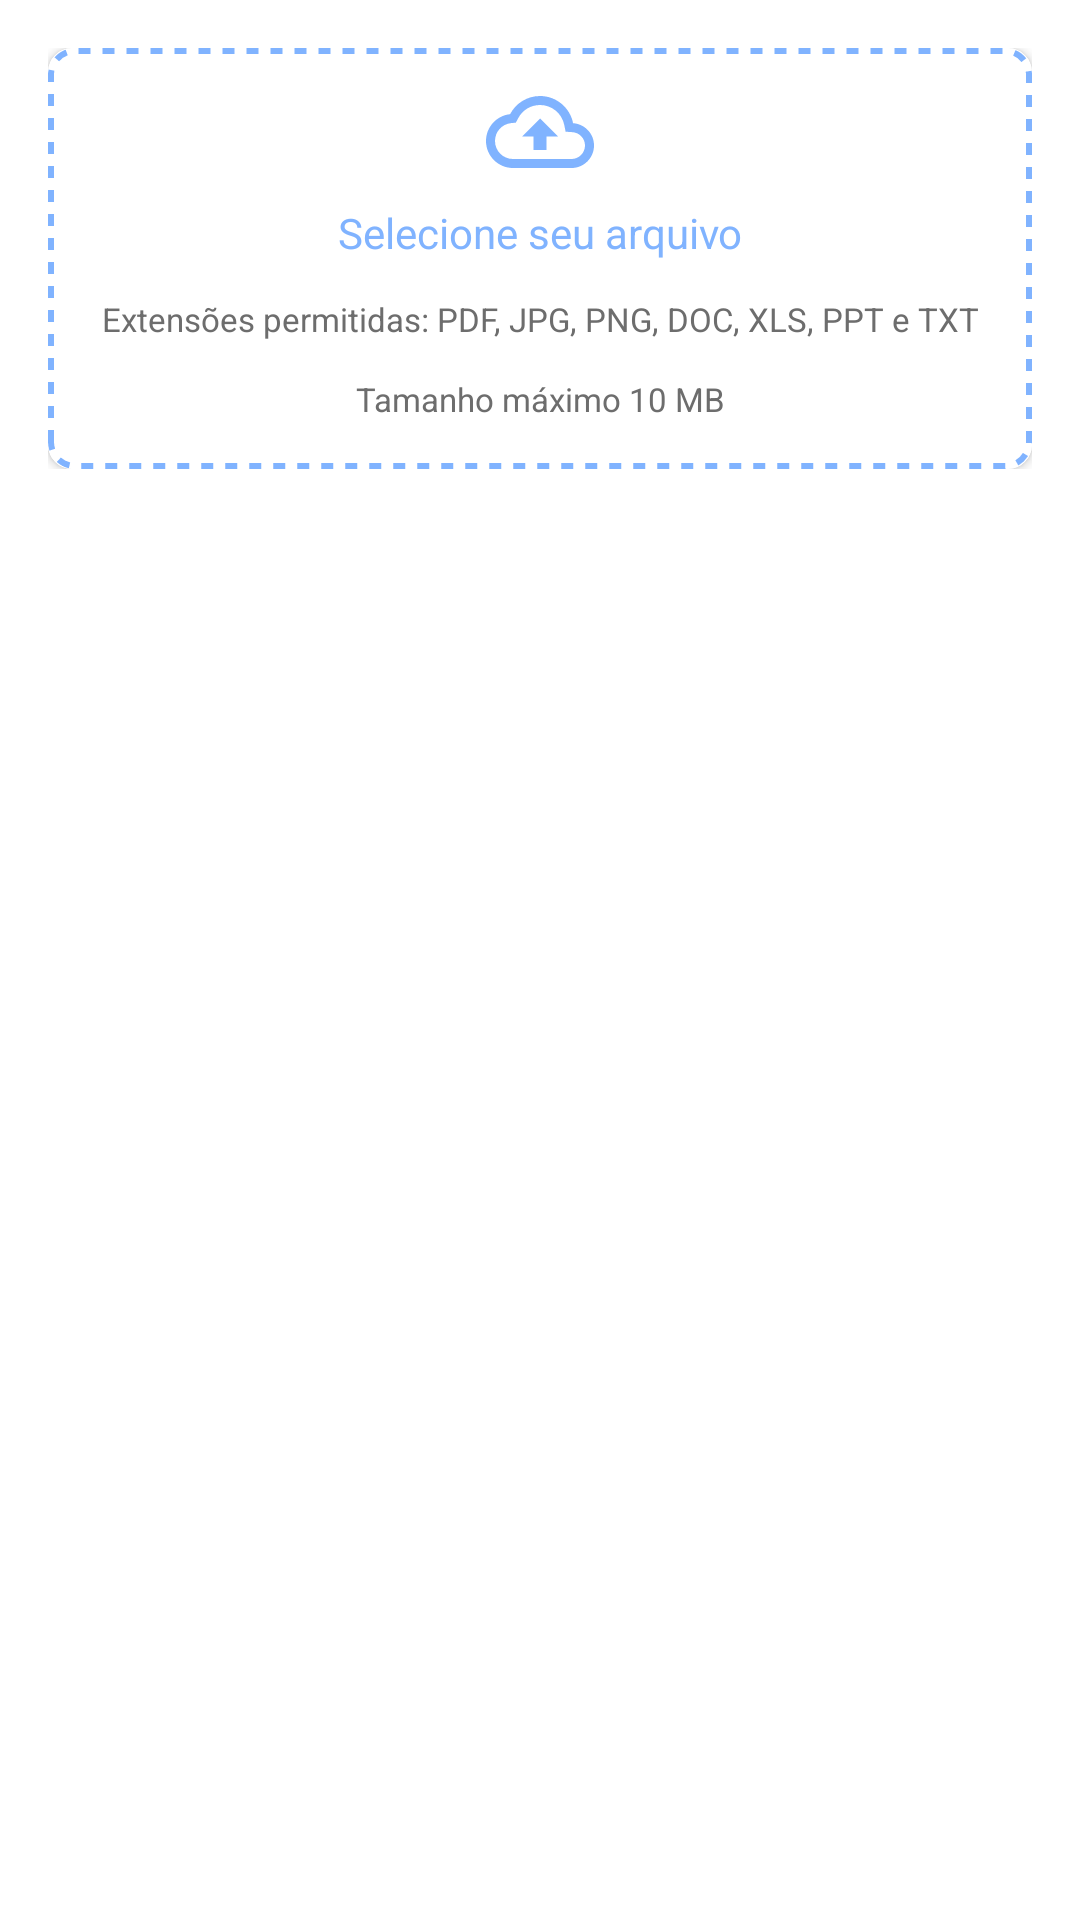

Icon click points for this 1080px×1920px phone screenshot, format [x,y]:
upload: [540,132]
